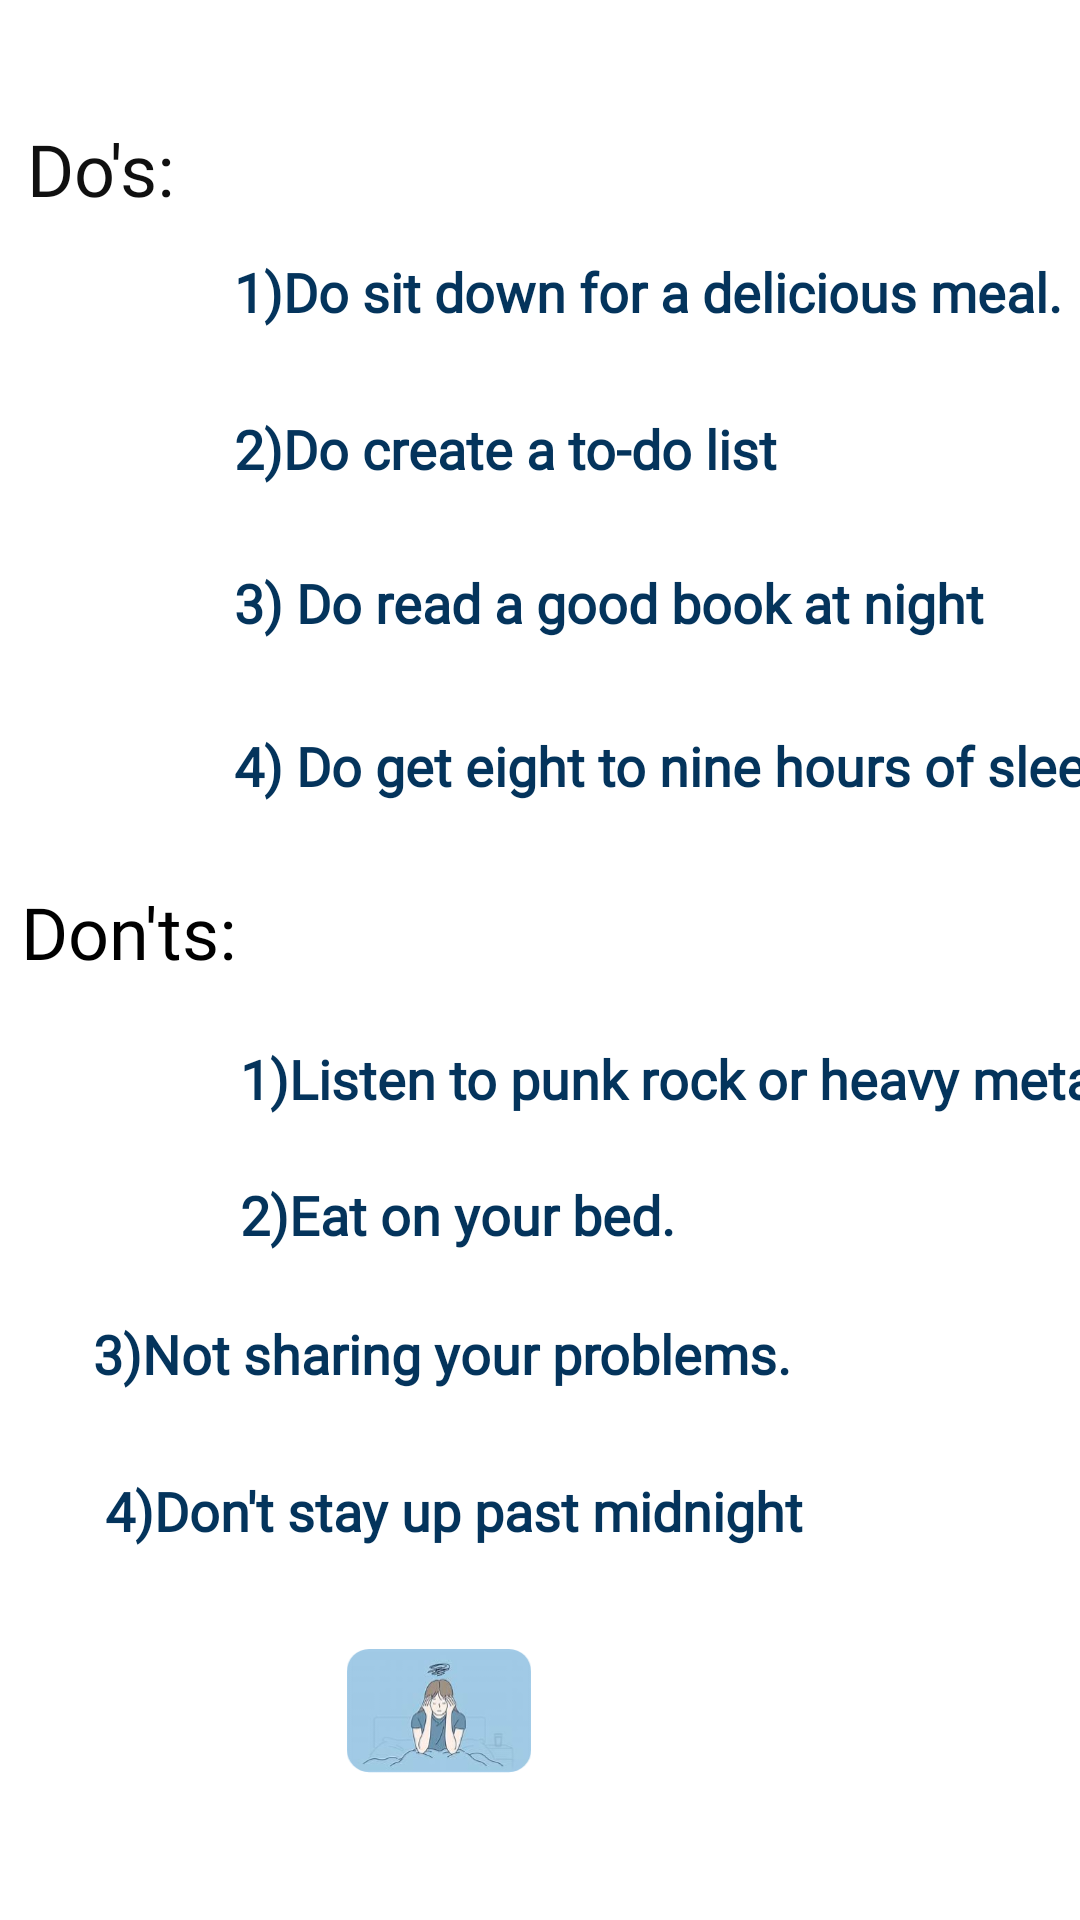

Named icons in this screenshot (1080x1920) and their bounding boxes, {"left": x1, "top": y1, "right": x2, "bottom": y2}:
stress: {"left": 347, "top": 1649, "right": 531, "bottom": 1772}
